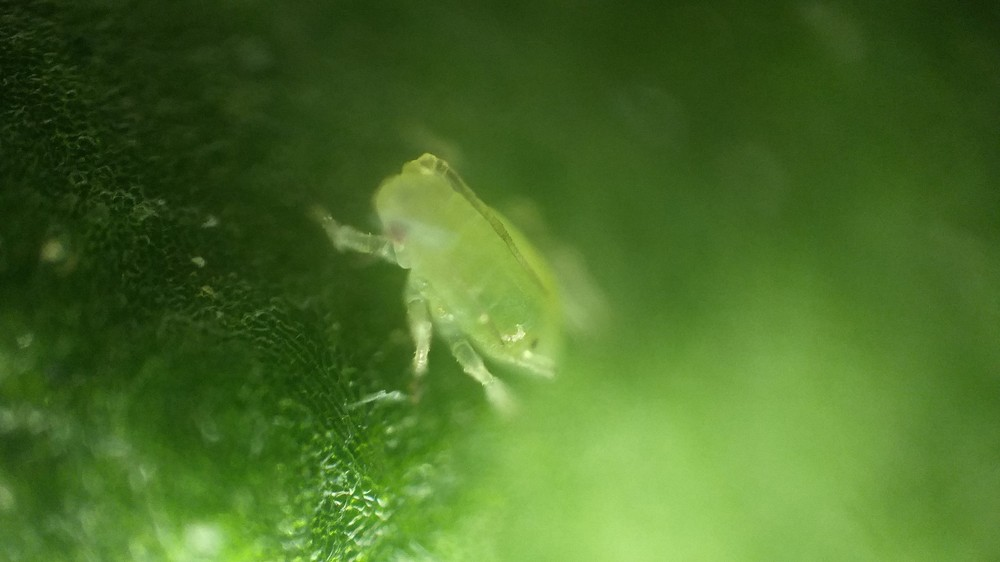Pulgon: (293, 126, 664, 459)
